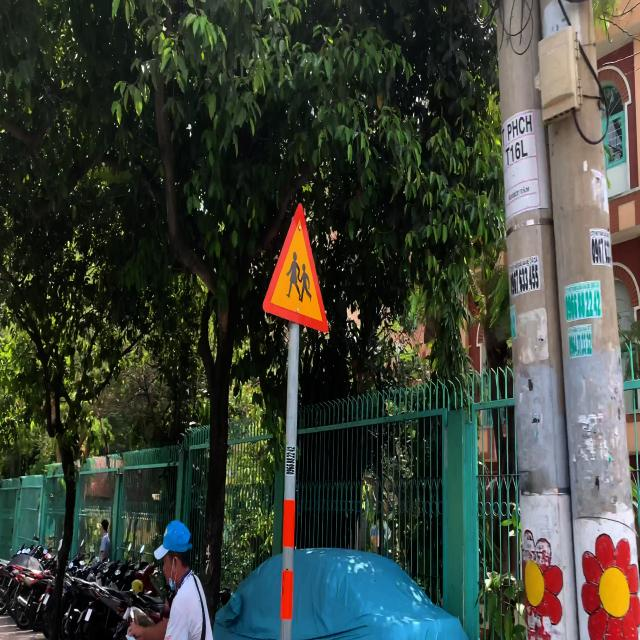Nguy hiem: (259, 191, 331, 339)
